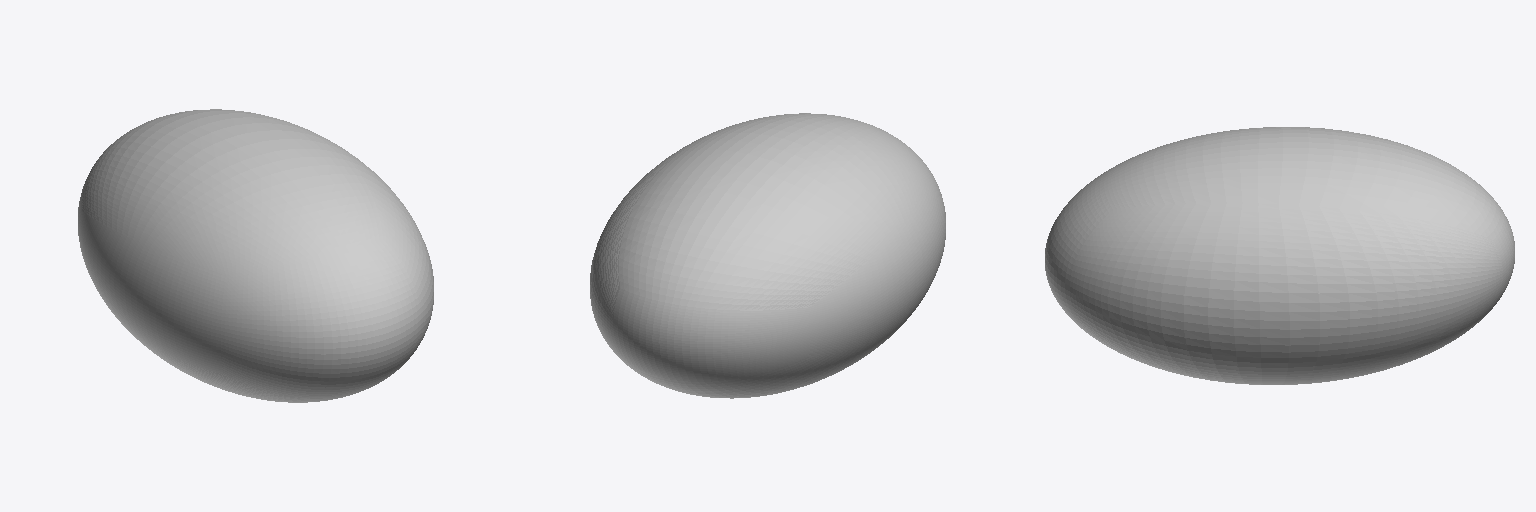
Rendered from pies.obj.
The picture shows the model from 3 angles: view 1: azimuth 30°, elevation 25°; view 2: azimuth 150°, elevation 25°; view 3: azimuth 270°, elevation 25°; orthographic projection.
Visible parts, largest first — view 1: Cube.002; view 2: Cube.002; view 3: Cube.002.
Boxes of the visible parts, x1=… form: Cube.002: x1=78, y1=109, x2=433, y2=402; Cube.002: x1=590, y1=113, x2=945, y2=398; Cube.002: x1=1045, y1=127, x2=1514, y2=384.
Bounding box in the file's own units: 1.06 × 0.8385 × 1.61.